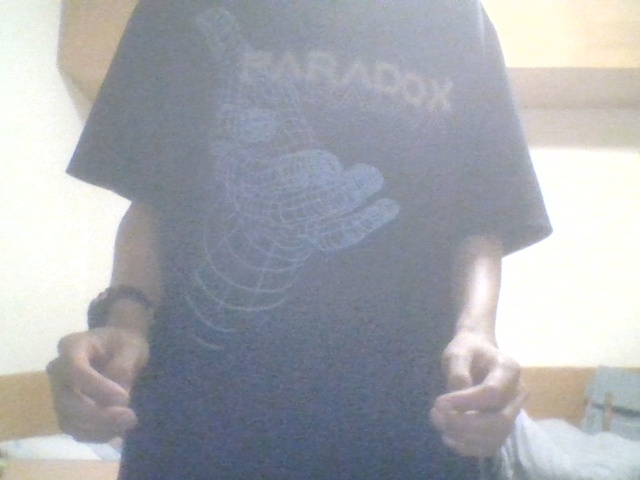human: (45, 1, 555, 480)
